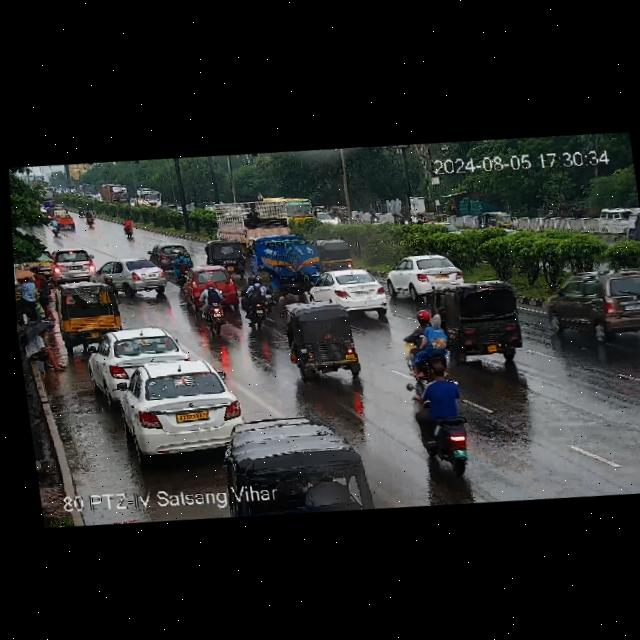bus: (277, 195, 315, 223), (137, 189, 161, 212), (78, 182, 99, 202)
car: (225, 415, 370, 521), (116, 356, 242, 454), (539, 262, 640, 349), (438, 276, 529, 368), (85, 325, 194, 389), (285, 305, 363, 377), (53, 279, 126, 334), (308, 265, 384, 315), (383, 250, 458, 296), (95, 252, 165, 297), (185, 261, 240, 308), (46, 244, 97, 282), (207, 239, 248, 276), (596, 204, 635, 237), (318, 239, 355, 273), (479, 206, 517, 230), (480, 208, 514, 231), (150, 244, 171, 267), (315, 211, 340, 226), (416, 210, 437, 226), (54, 213, 74, 228), (332, 205, 347, 221)
motorcycle: (405, 373, 478, 469), (395, 305, 450, 382), (197, 279, 229, 336), (238, 274, 269, 328), (255, 263, 279, 313), (172, 250, 190, 284), (121, 215, 135, 237), (51, 218, 63, 237), (84, 212, 94, 227), (397, 212, 409, 224), (369, 210, 379, 223), (78, 204, 85, 217)
person: (22, 324, 67, 374), (17, 277, 40, 323), (36, 272, 57, 322)
truck: (252, 237, 320, 286), (216, 199, 293, 241), (99, 182, 131, 206)
